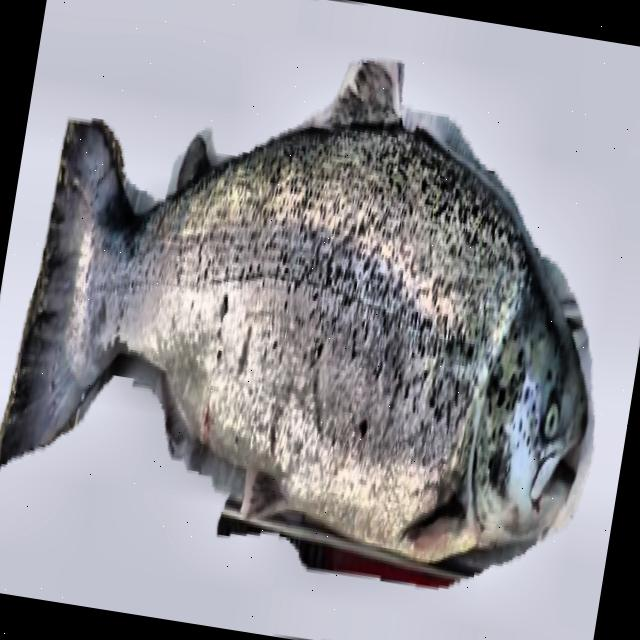mild_red: (71, 128, 522, 551)
